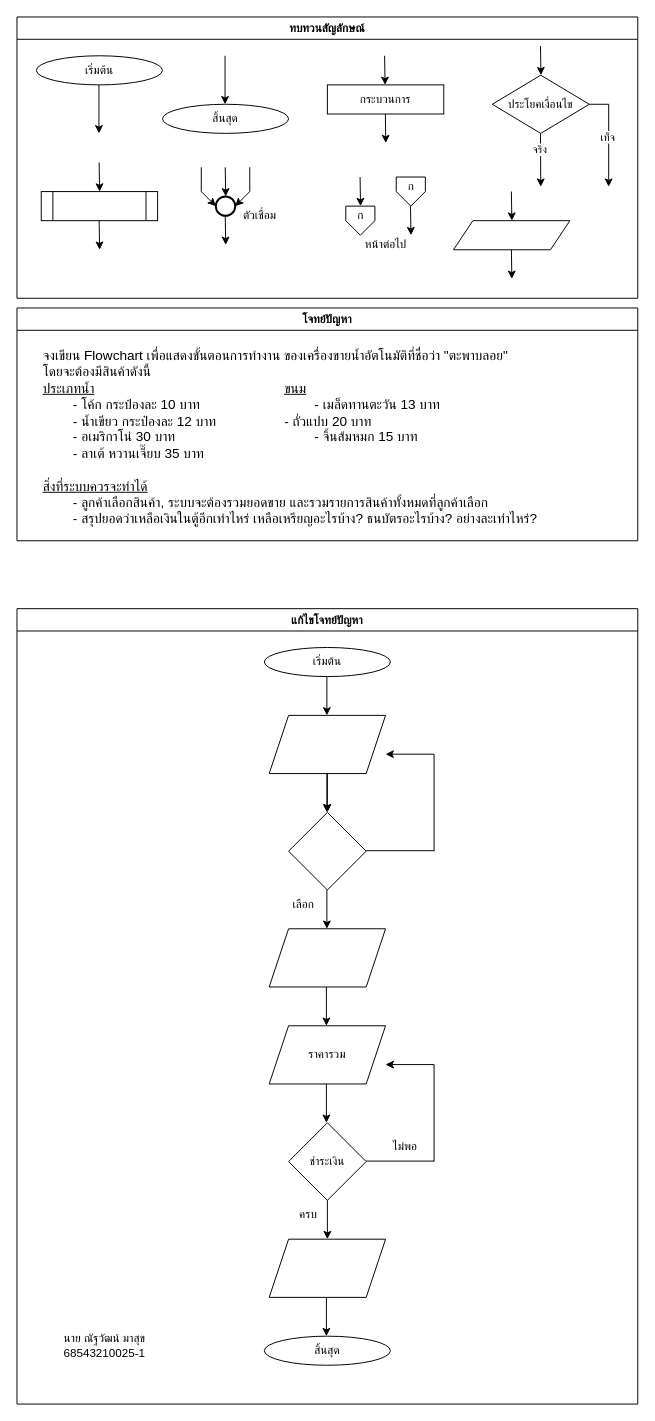
This 655x1421 diagram has some shape labels left out. The shapes that lost their labels are listed below. From the top down, each one's centre as x and y in pixels, then its label:
At pixel 99 206: "ฟังก์ชัน/โมดูล".
At pixel 511 235: "แสดงผล/รับค่า".
At pixel 327 744: "รายการสินค้า".
At pixel 327 850: "เลือกสินค้า".
At pixel 327 957: "จำนวนสินค้า".
At pixel 327 1267: "จำนวนเงินในตู้".
